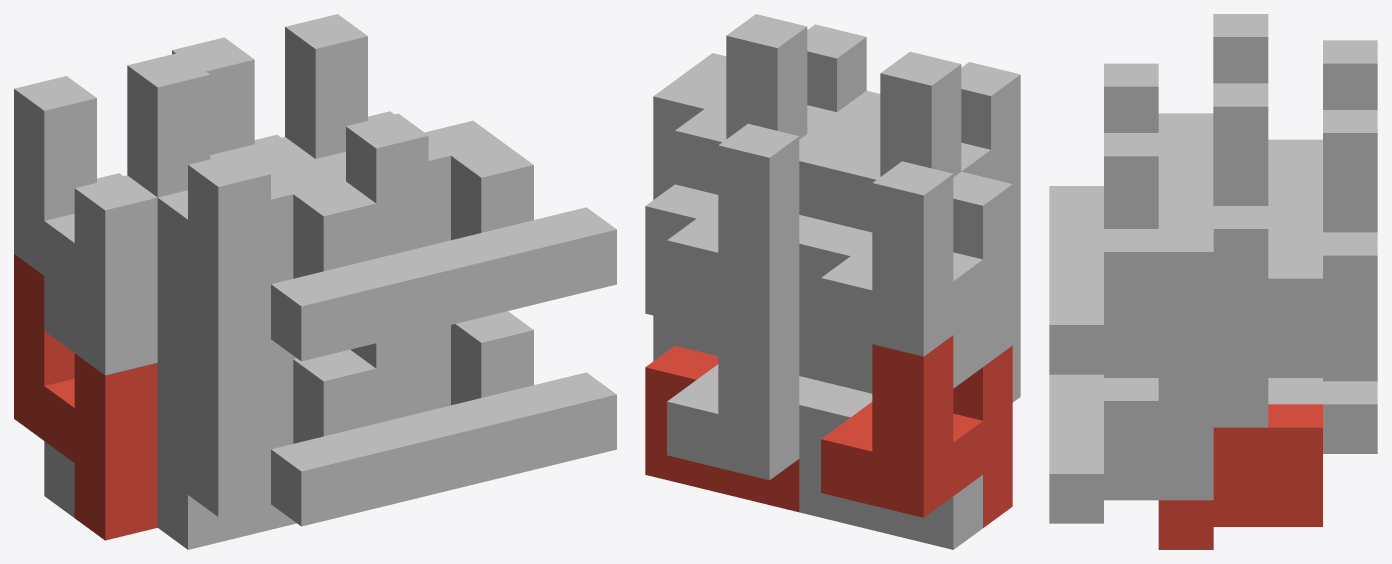
The model's file is tiling.obj.
The picture shows the model from 3 angles, left to right: view 1: azimuth 30°, elevation 25°; view 2: azimuth 150°, elevation 25°; view 3: azimuth 270°, elevation 25°; orthographic projection. The views are drawn at different scales.
Parts seen in each view (by area): view 1: copy_1_domain_3, copy_1_domain_4, copy_2_domain_4, copy_2_domain_2, copy_2_domain_8, copy_1_domain_1, copy_1_domain_8, copy_2_domain_6, copy_1_domain_2, copy_1_domain_7, copy_2_domain_1, copy_1_domain_6 (+1 smaller); view 2: copy_1_domain_3, copy_1_domain_1, copy_1_domain_7, copy_1_domain_4, copy_1_domain_5, copy_1_domain_8, copy_2_domain_1, copy_2_domain_5, copy_2_domain_3, copy_2_domain_7, copy_2_domain_8, copy_1_domain_2 (+3 smaller); view 3: copy_2_domain_8, copy_2_domain_6, copy_1_domain_8, copy_2_domain_5, copy_2_domain_7, copy_1_domain_7, copy_1_domain_4, copy_1_domain_5, copy_1_domain_3, copy_2_domain_4, copy_1_domain_6, copy_2_domain_2 (+1 smaller).
Boxes of the visible parts, bbox=[...] form: copy_1_domain_3: bbox=[14, 76, 157, 375]; copy_1_domain_4: bbox=[127, 52, 293, 351]; copy_2_domain_4: bbox=[157, 159, 458, 361]; copy_2_domain_2: bbox=[157, 349, 458, 526]; copy_2_domain_8: bbox=[425, 120, 616, 322]; copy_1_domain_1: bbox=[14, 254, 157, 540]; copy_1_domain_8: bbox=[285, 14, 450, 258]; copy_2_domain_6: bbox=[428, 311, 616, 487]; copy_1_domain_2: bbox=[157, 330, 293, 516]; copy_1_domain_7: bbox=[172, 37, 314, 170]; copy_2_domain_1: bbox=[44, 441, 296, 549]; copy_1_domain_6: bbox=[350, 325, 450, 423]; copy_1_domain_3: bbox=[821, 161, 1012, 366]; copy_1_domain_1: bbox=[821, 335, 1012, 527]; copy_1_domain_7: bbox=[667, 123, 858, 318]; copy_1_domain_4: bbox=[829, 51, 1020, 240]; copy_1_domain_5: bbox=[667, 298, 828, 480]; copy_1_domain_8: bbox=[675, 14, 866, 194]; copy_2_domain_1: bbox=[799, 383, 982, 549]; copy_2_domain_5: bbox=[645, 345, 799, 512]; copy_2_domain_3: bbox=[799, 222, 982, 388]; copy_2_domain_7: bbox=[645, 184, 718, 331]; copy_2_domain_8: bbox=[653, 53, 726, 199]; copy_1_domain_2: bbox=[829, 236, 1020, 402]; copy_2_domain_8: bbox=[1049, 229, 1213, 374]; copy_2_domain_6: bbox=[1049, 378, 1213, 523]; copy_1_domain_8: bbox=[1104, 83, 1268, 278]; copy_2_domain_5: bbox=[1158, 404, 1322, 549]; copy_2_domain_7: bbox=[1158, 255, 1322, 400]; copy_1_domain_7: bbox=[1268, 110, 1377, 304]; copy_1_domain_4: bbox=[1104, 14, 1268, 159]; copy_1_domain_5: bbox=[1268, 305, 1377, 453]; copy_1_domain_3: bbox=[1268, 40, 1377, 185]; copy_2_domain_4: bbox=[1049, 159, 1213, 255]; copy_1_domain_6: bbox=[1104, 351, 1268, 427]; copy_2_domain_2: bbox=[1049, 374, 1103, 404].
Size of the model in its own units: 8 by 8 by 6.
